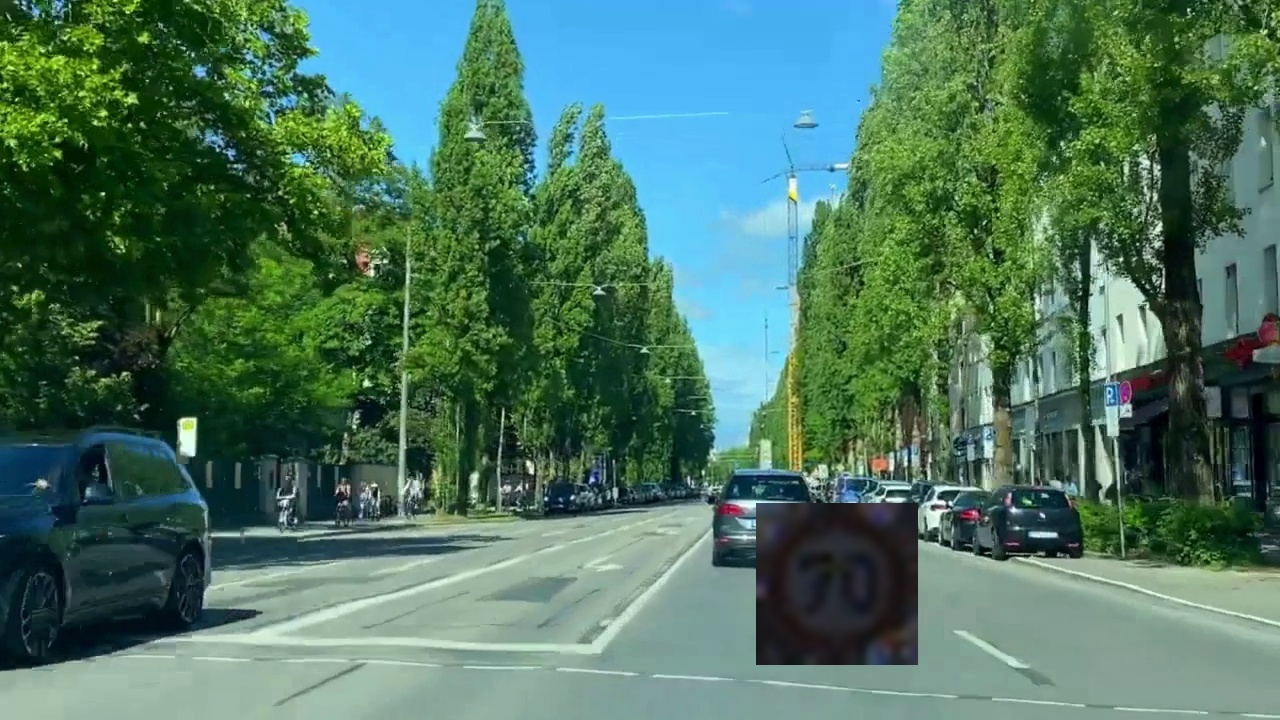Speed 70: (756, 503, 918, 665)
